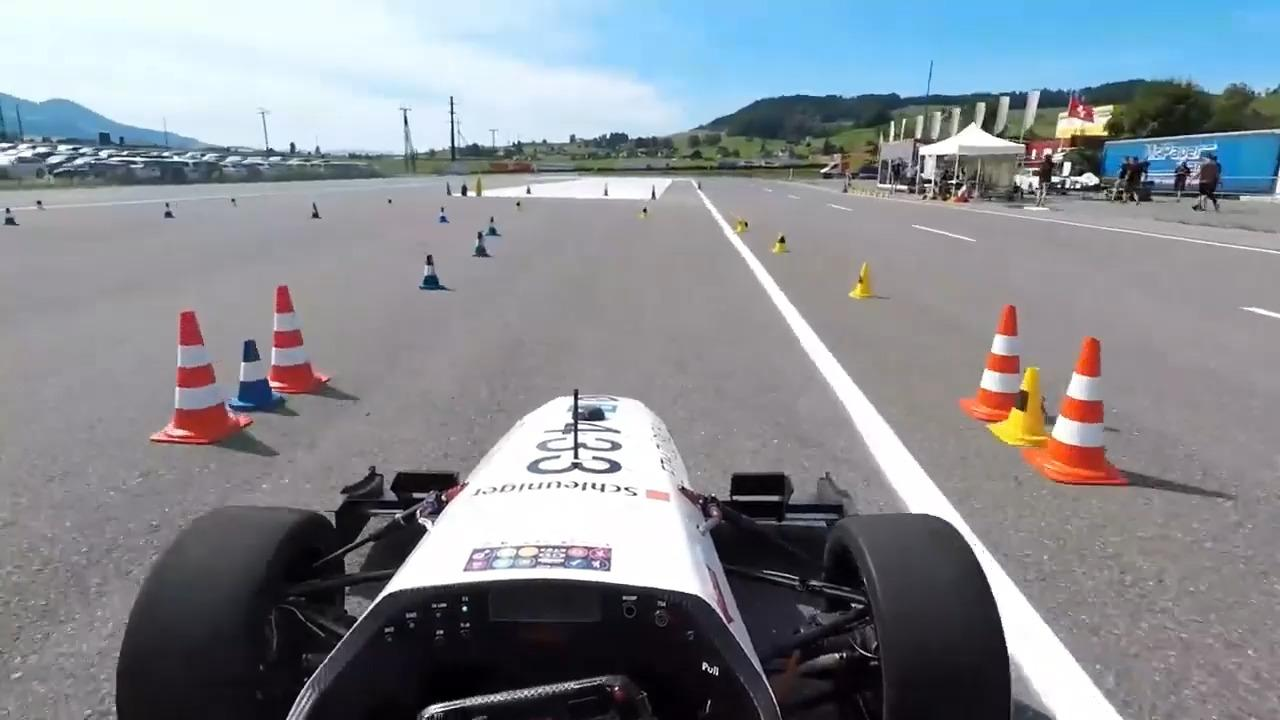blue_cone: (226, 335, 280, 412), (416, 248, 444, 291), (468, 233, 487, 259), (484, 215, 501, 238), (4, 204, 19, 229), (163, 202, 177, 222), (437, 203, 449, 225), (309, 199, 321, 220)
large_orange_cone: (1042, 328, 1126, 484), (151, 306, 240, 447), (971, 303, 1037, 425), (268, 277, 321, 395)
yellow_cone: (989, 356, 1047, 443), (849, 260, 879, 301), (728, 212, 749, 232), (772, 228, 786, 254), (225, 196, 238, 215), (32, 197, 44, 214), (513, 199, 524, 213), (640, 205, 648, 220), (385, 195, 393, 206)
